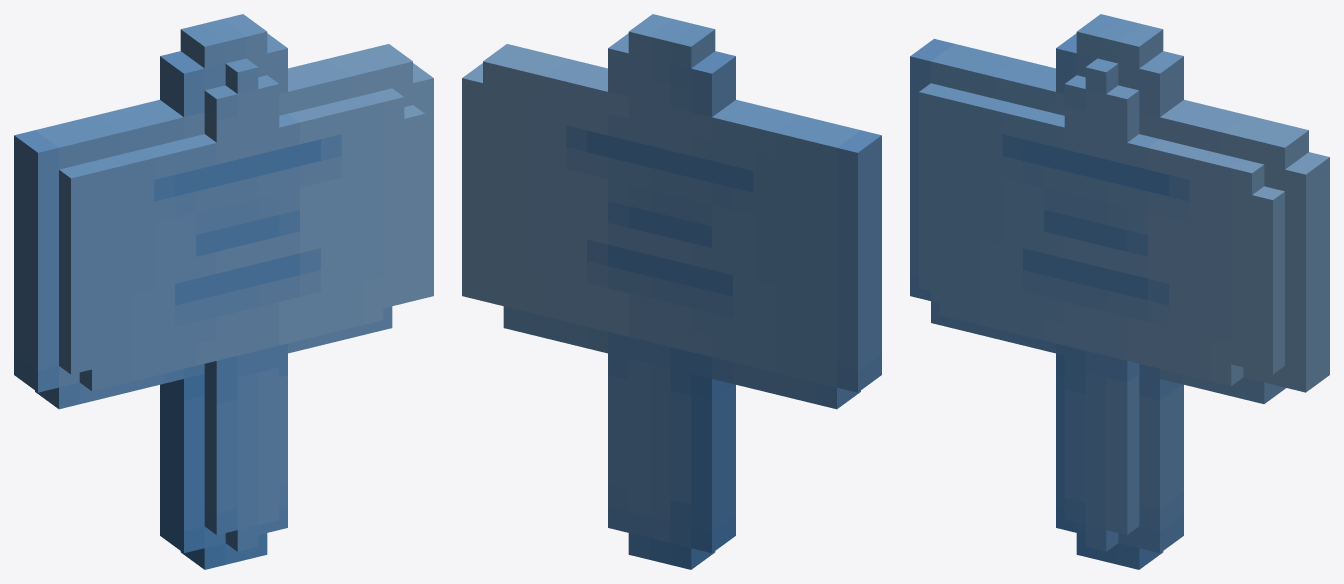
File: placard-blue.glb
3 views of the same model, side by side, from view 1: azimuth 30°, elevation 25°; view 2: azimuth 150°, elevation 25°; view 3: azimuth 330°, elevation 25° (orthographic).
Visible parts, largest first — view 1: prop; view 2: prop; view 3: prop.
Part boxes in pixels (box(x1,y1,x2,y2)): prop: box(14, 14, 433, 569); prop: box(462, 14, 881, 569); prop: box(910, 14, 1329, 569).
Size of the model in its own units: 12.67 by 16 by 2.
